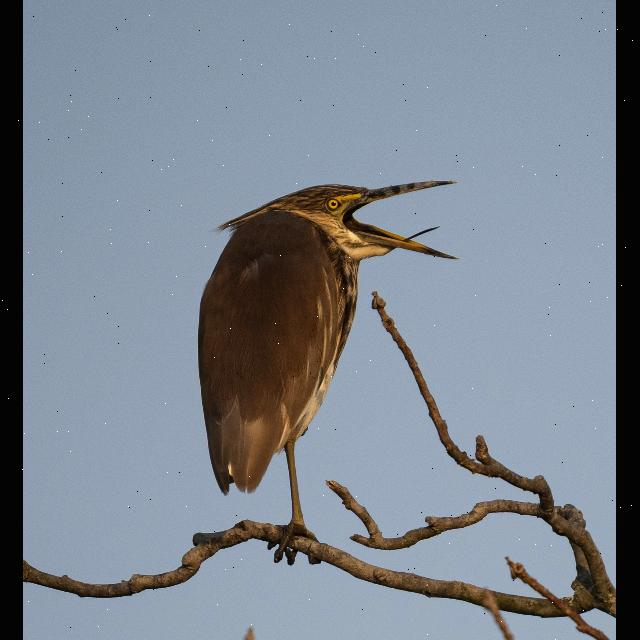heron: (191, 167, 464, 547)
